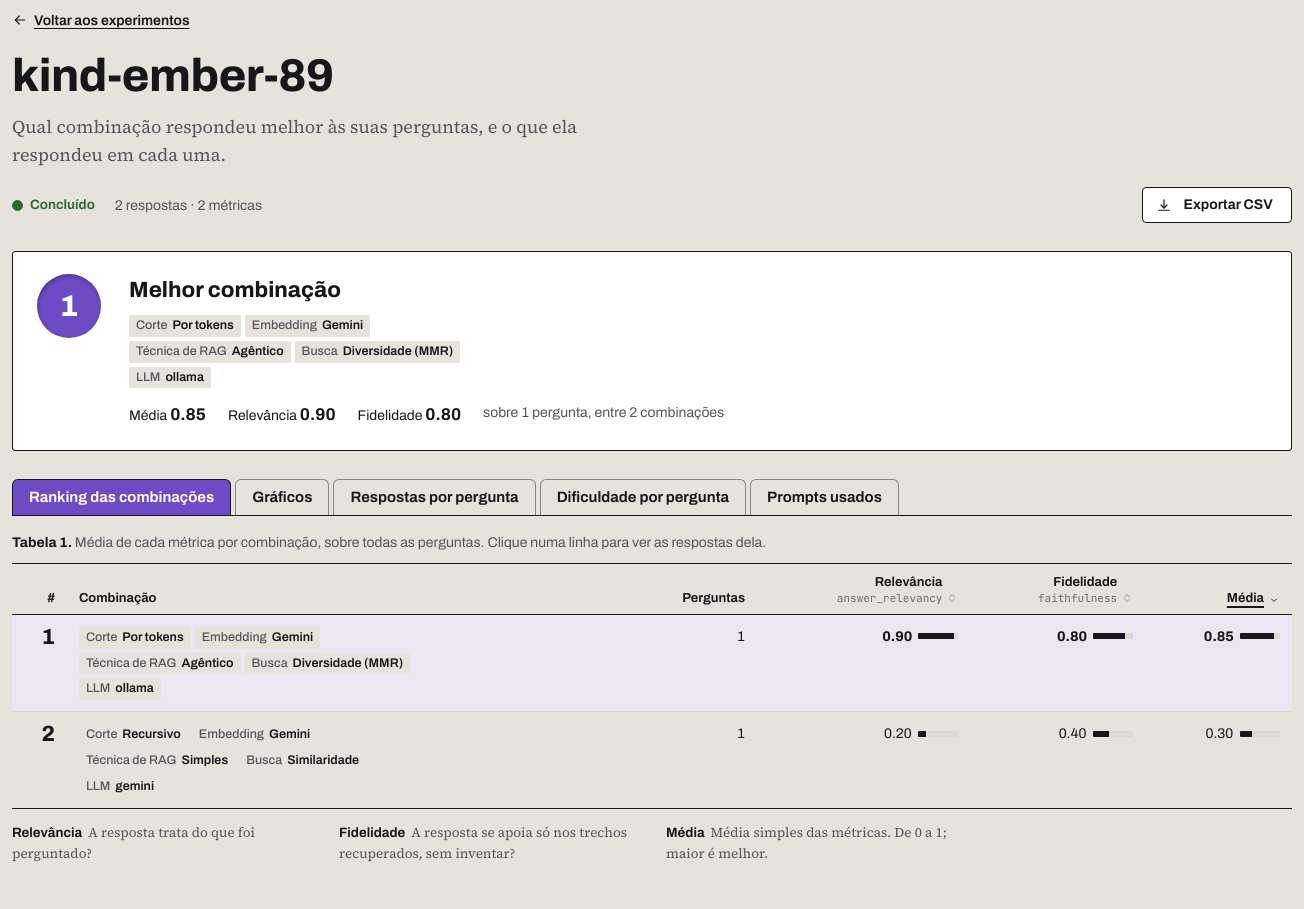
Test case: ExperimentDetailPage › filters rows by llm (ollama)
Click the tab "Respostas por pergunta": (434, 497) [333,479,536,515]
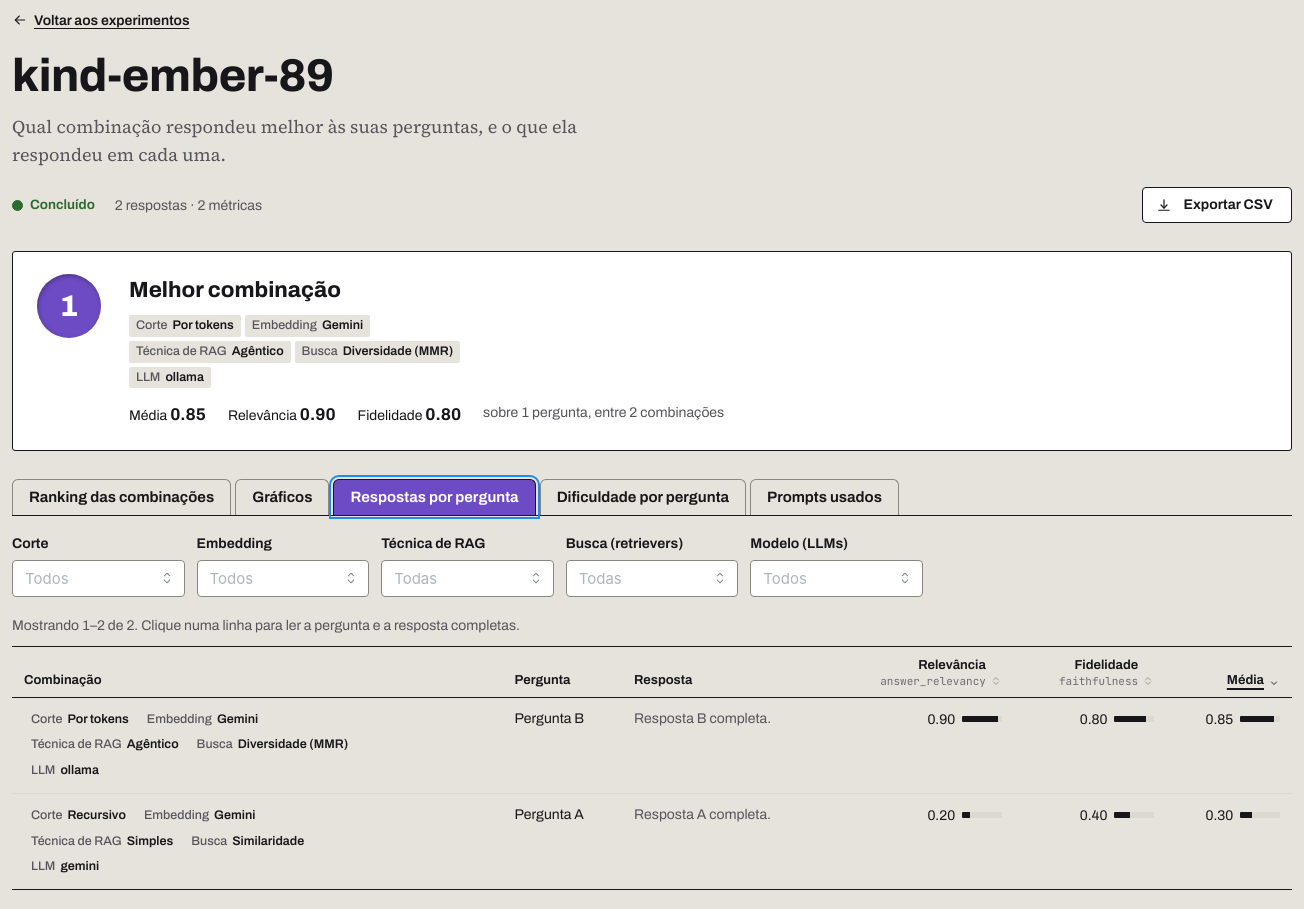
Expected: the button "Pergunta A" is shown, [515,805,584,824]
Click the field labelled "Modelo (LLMs)": (826, 578) [763,566,888,590]
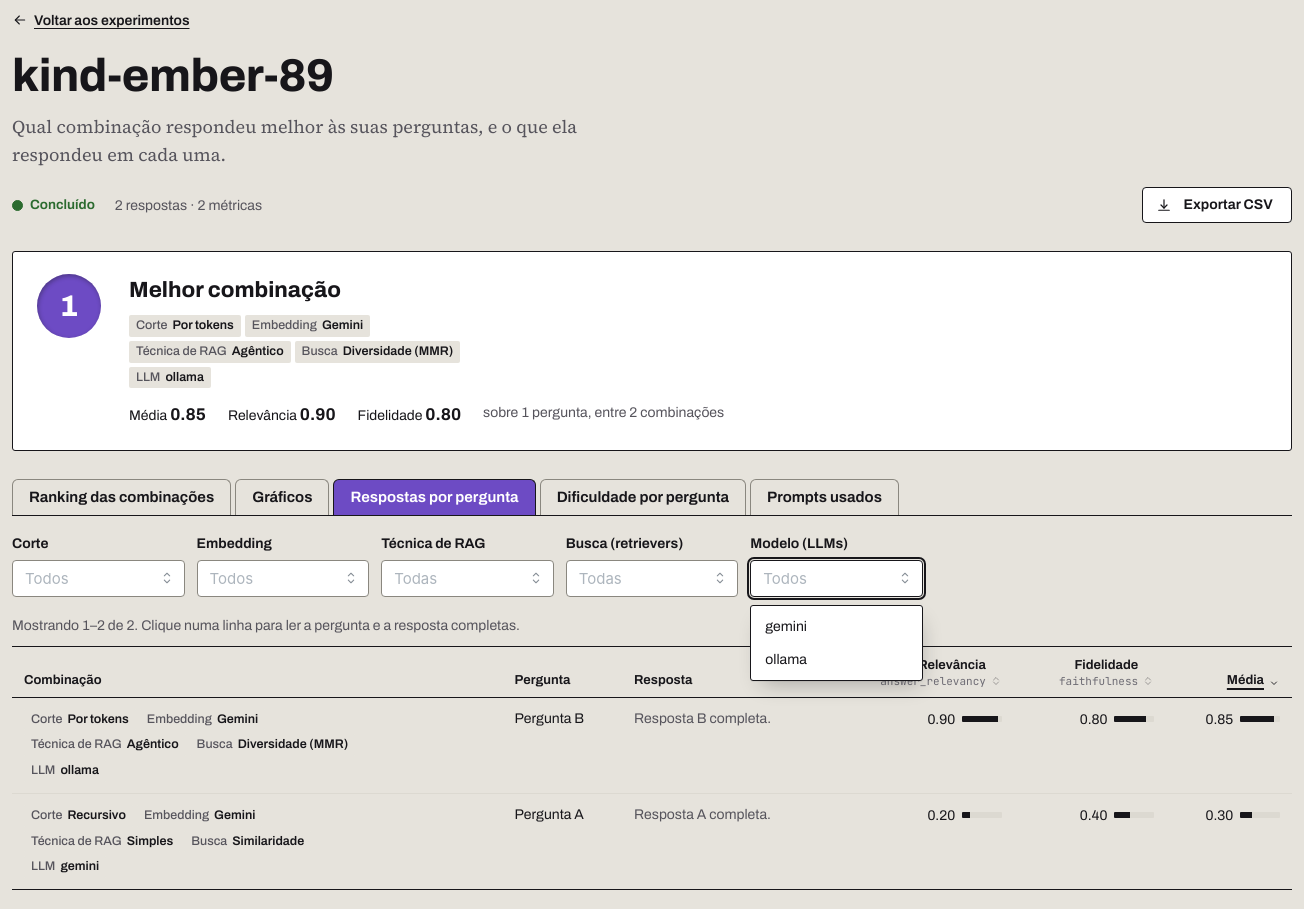
Click the option "ollama": (786, 659) [765,652,807,667]
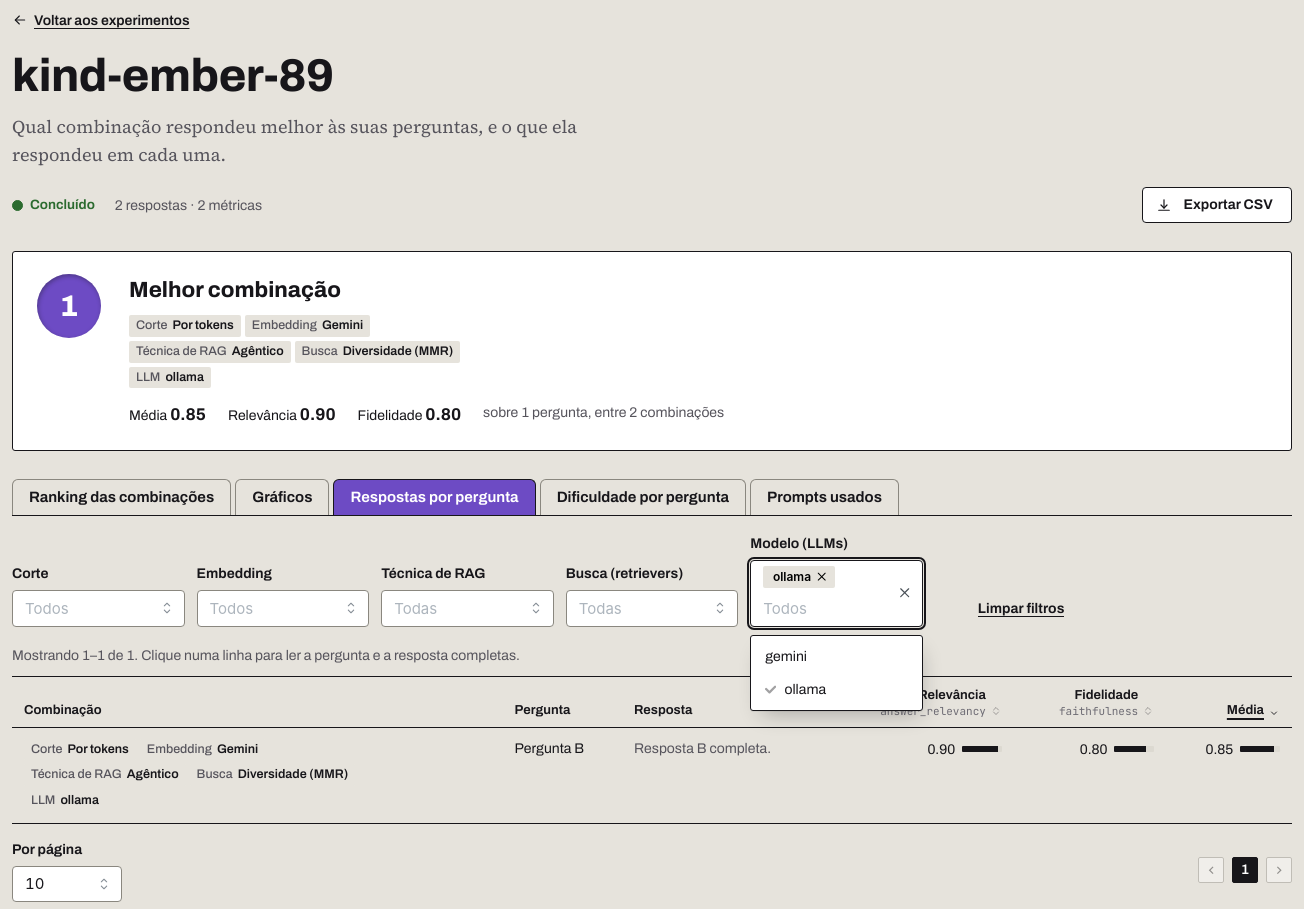
Expected: the button "Pergunta B" is shown, [515,739,584,758]
Expected: the button "Pergunta A" is gone
